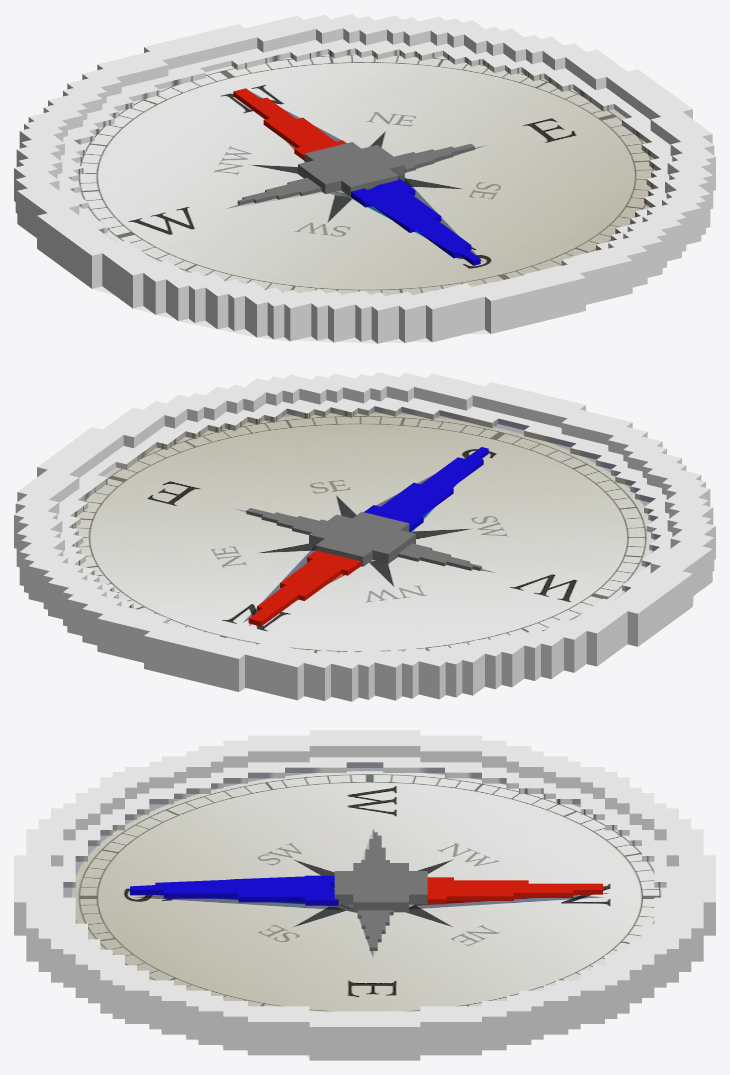
The model's file is compass.fbx.
3 renders of one model, top to bottom at view 1: azimuth 30°, elevation 25°; view 2: azimuth 150°, elevation 25°; view 3: azimuth 270°, elevation 25°, orthographic.
Parts seen in each view (by area): view 1: Circle; view 2: Circle; view 3: Circle.
Boxes of the visible parts, x1=… form: Circle: x1=14, y1=14, x2=715, y2=343; Circle: x1=14, y1=372, x2=715, y2=701; Circle: x1=14, y1=730, x2=715, y2=1060.
Bounding box in the file's own units: 488 × 25.67 × 488.
4 materials, 1 textured.
